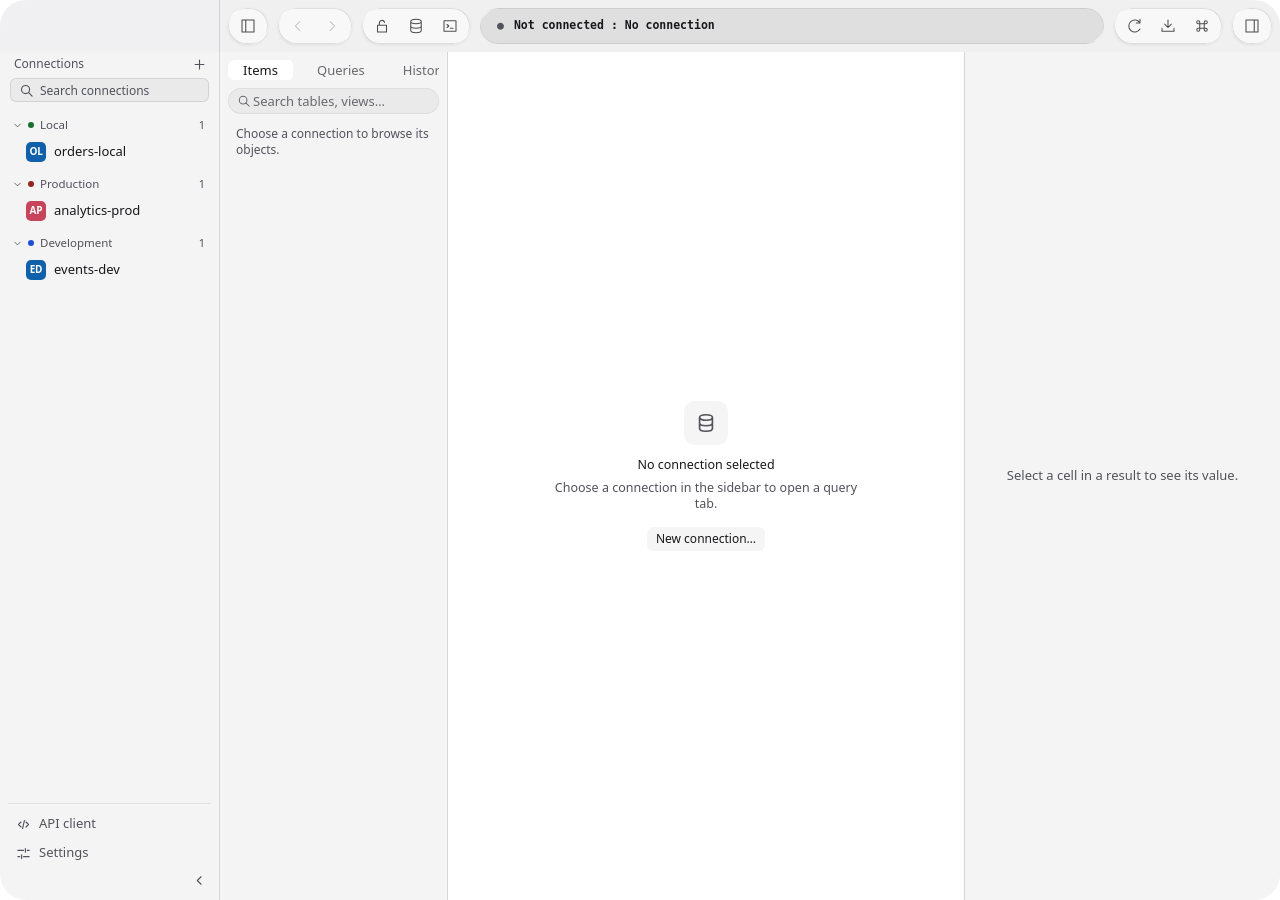
Test: connects saved profiles from the rail and forces safe mode for prod
The image size is (1280, 900).
Click the button named "Safe mode": x=382, y=26 [365,11,399,41]
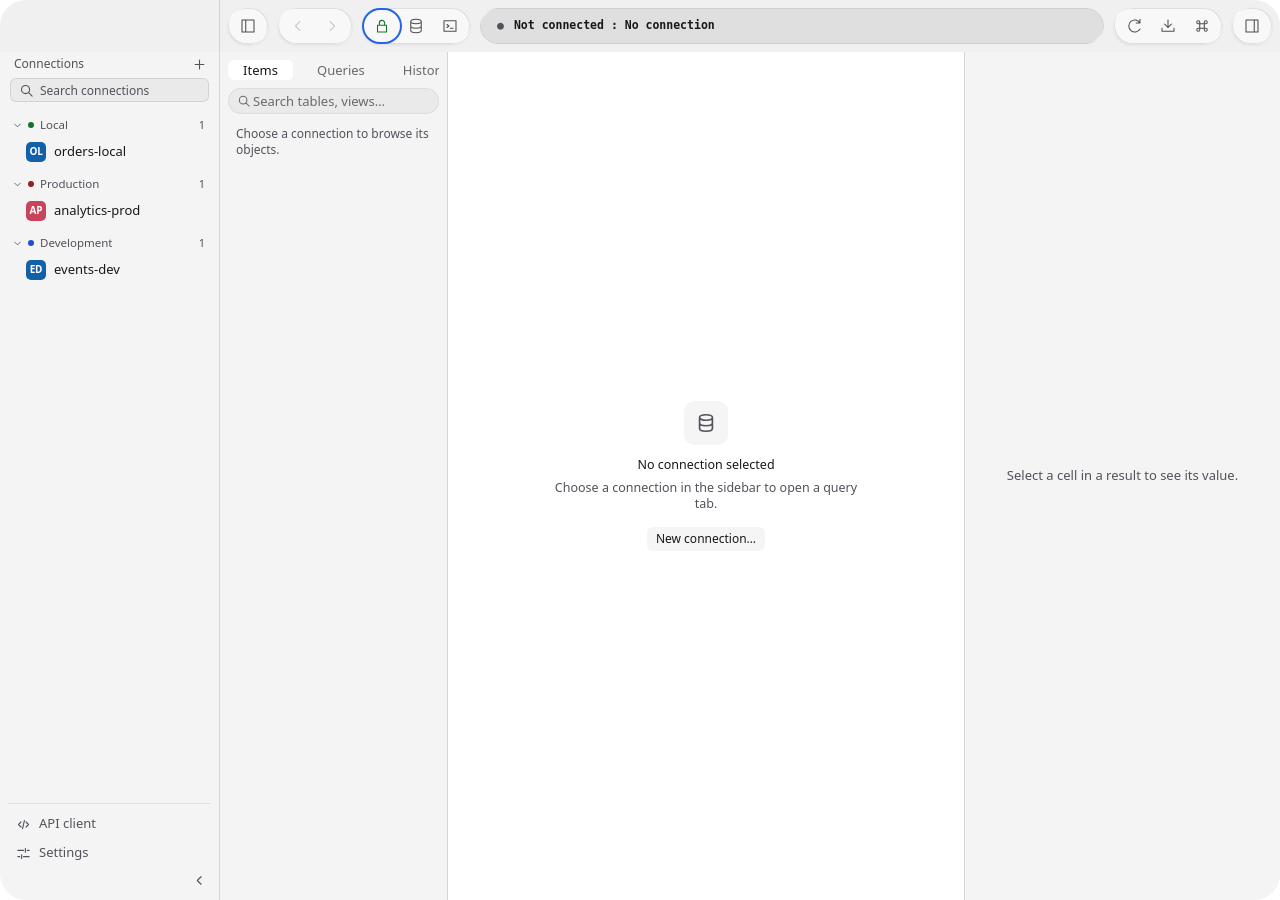
Expected: the button named "Safe mode" is pressed
Click the button named "Safe mode": x=382, y=26 [365,11,399,41]
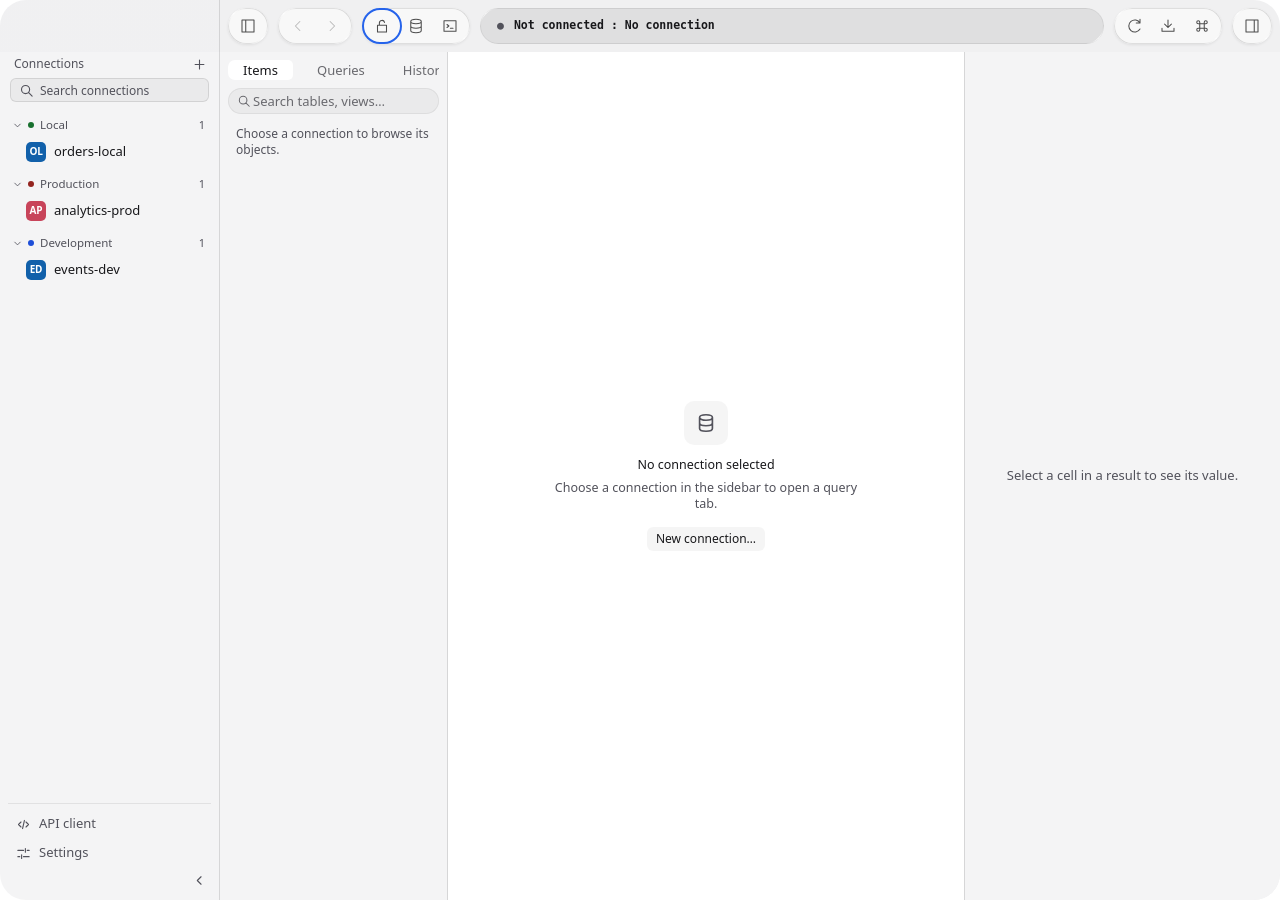
Expected: the element named "Connection context" shows "Not connected : No connection", [480,8,1104,44]
Expected: the button named "Safe mode" is not pressed, [365,11,399,41]
Click the button with aria-label "Switch to analytics-prod": x=118, y=211 [26,197,211,225]
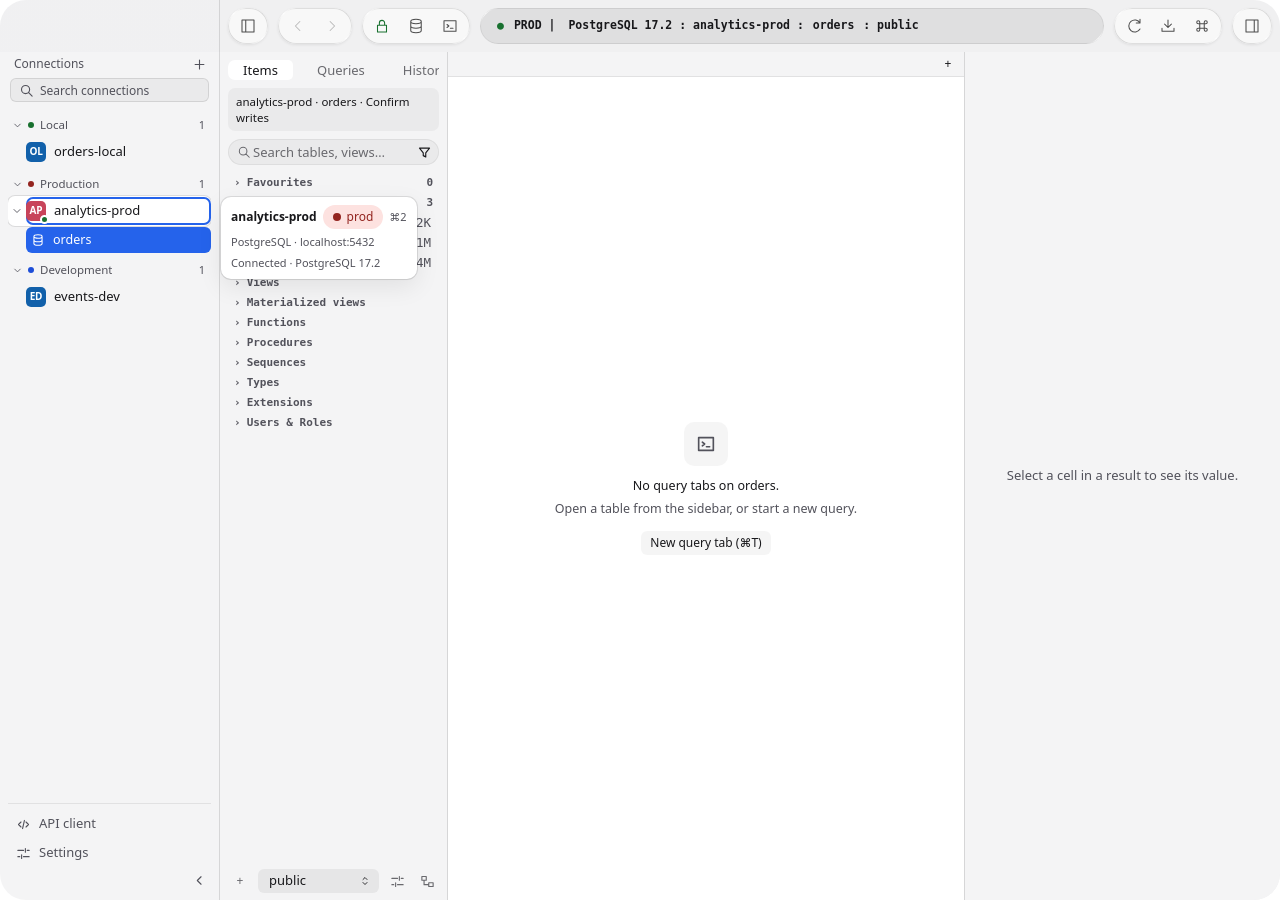
Expected: the element named "Connection context" shows "PROD | PostgreSQL 17.2 : analytics-prod : orders : public", [480,8,1104,44]
Click the button named "Safe mode": x=382, y=26 [365,11,399,41]
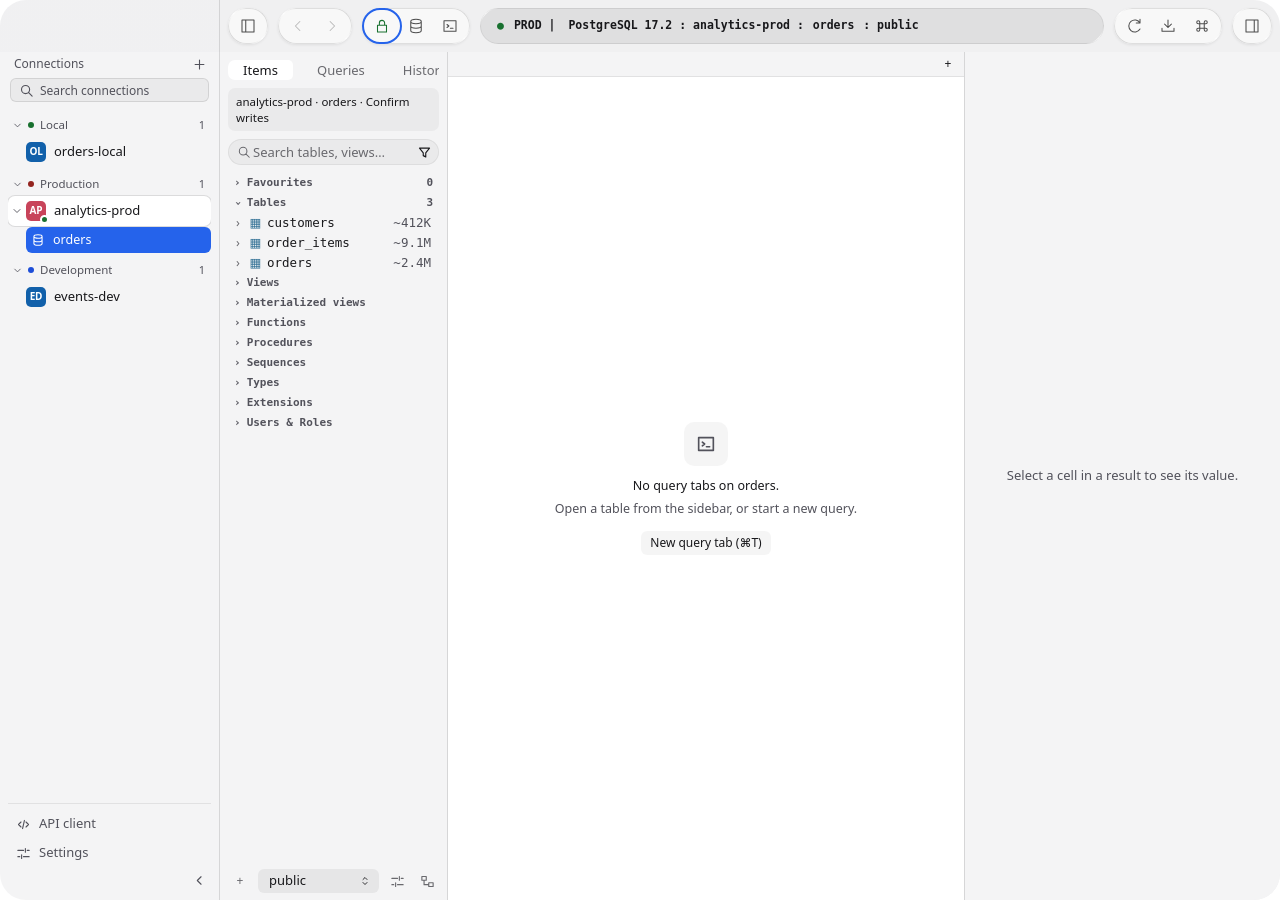
Expected: the button named "Safe mode" is pressed, [365,11,399,41]
Click the button with aria-label "Switch to events-dev": x=118, y=297 [26,283,211,311]
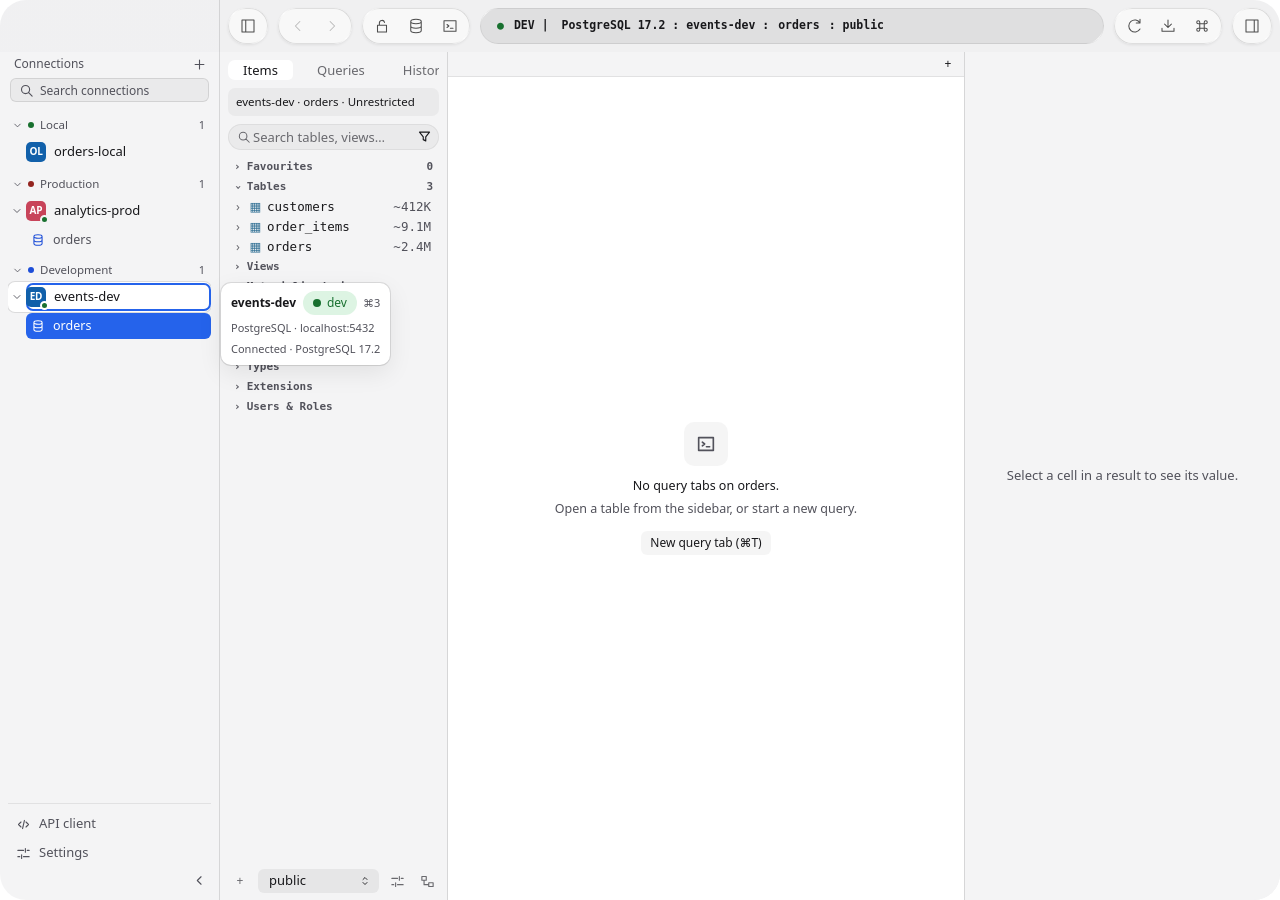
Expected: the element named "Connection context" shows "DEV | PostgreSQL 17.2 : events-dev : orders", [480,8,1104,44]
Select "archive" in the dropdown named "Schema": x=318, y=881 [258,869,379,893]
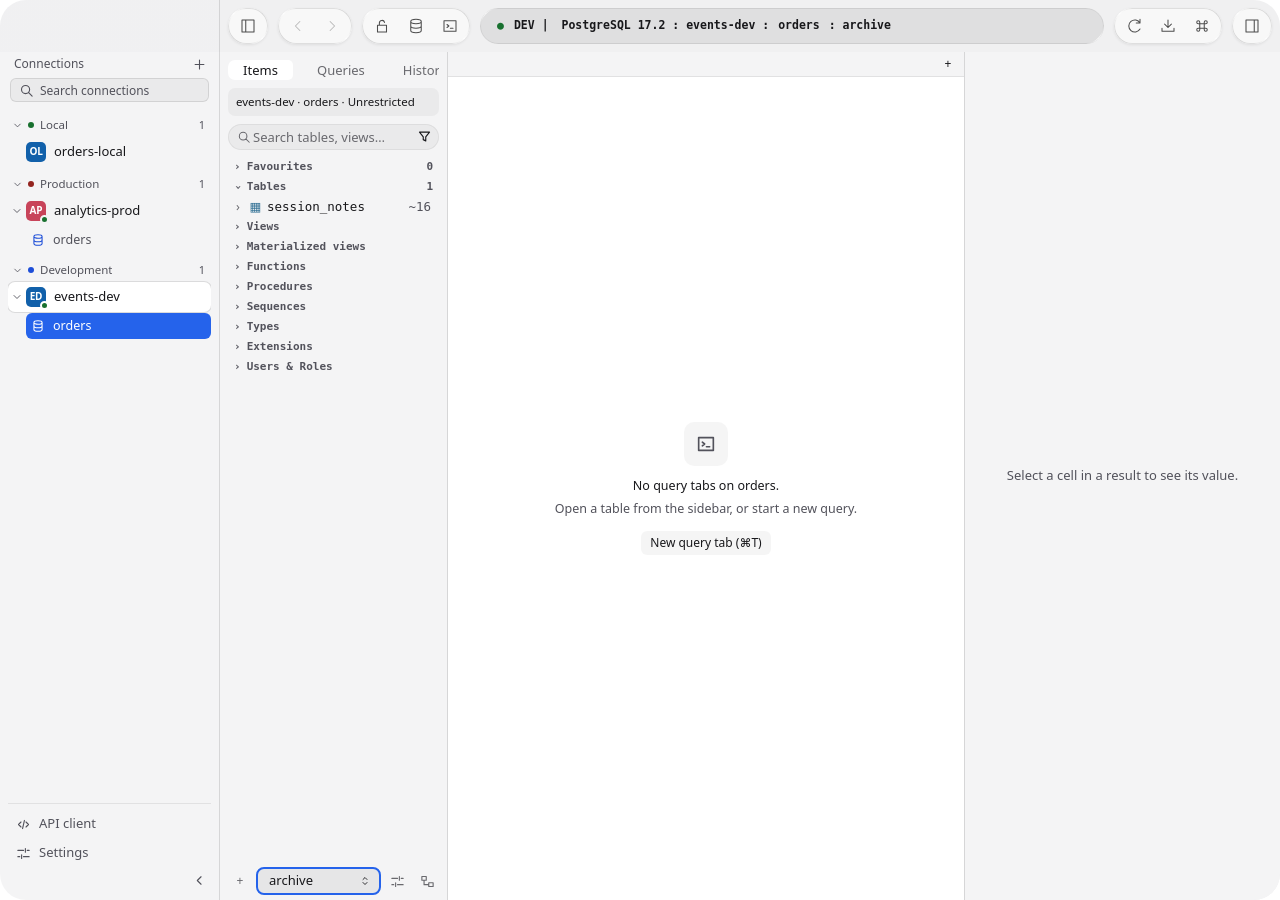
Expected: the element named "Connection context" shows "archive", [822,18,891,32]
